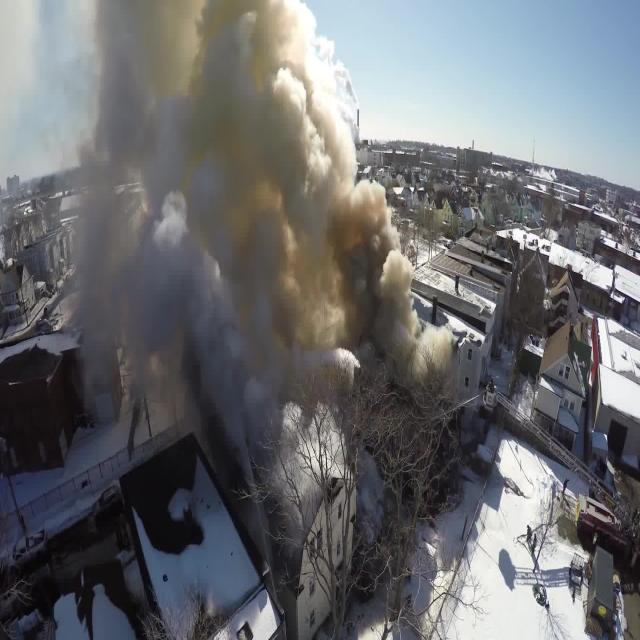Smoke: (88, 3, 430, 420)
